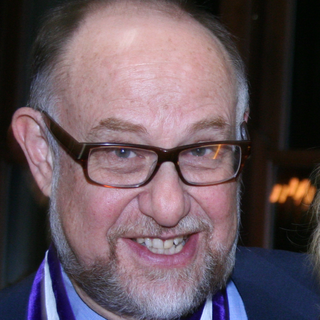eye: (101, 141, 147, 164), (183, 140, 224, 165)
